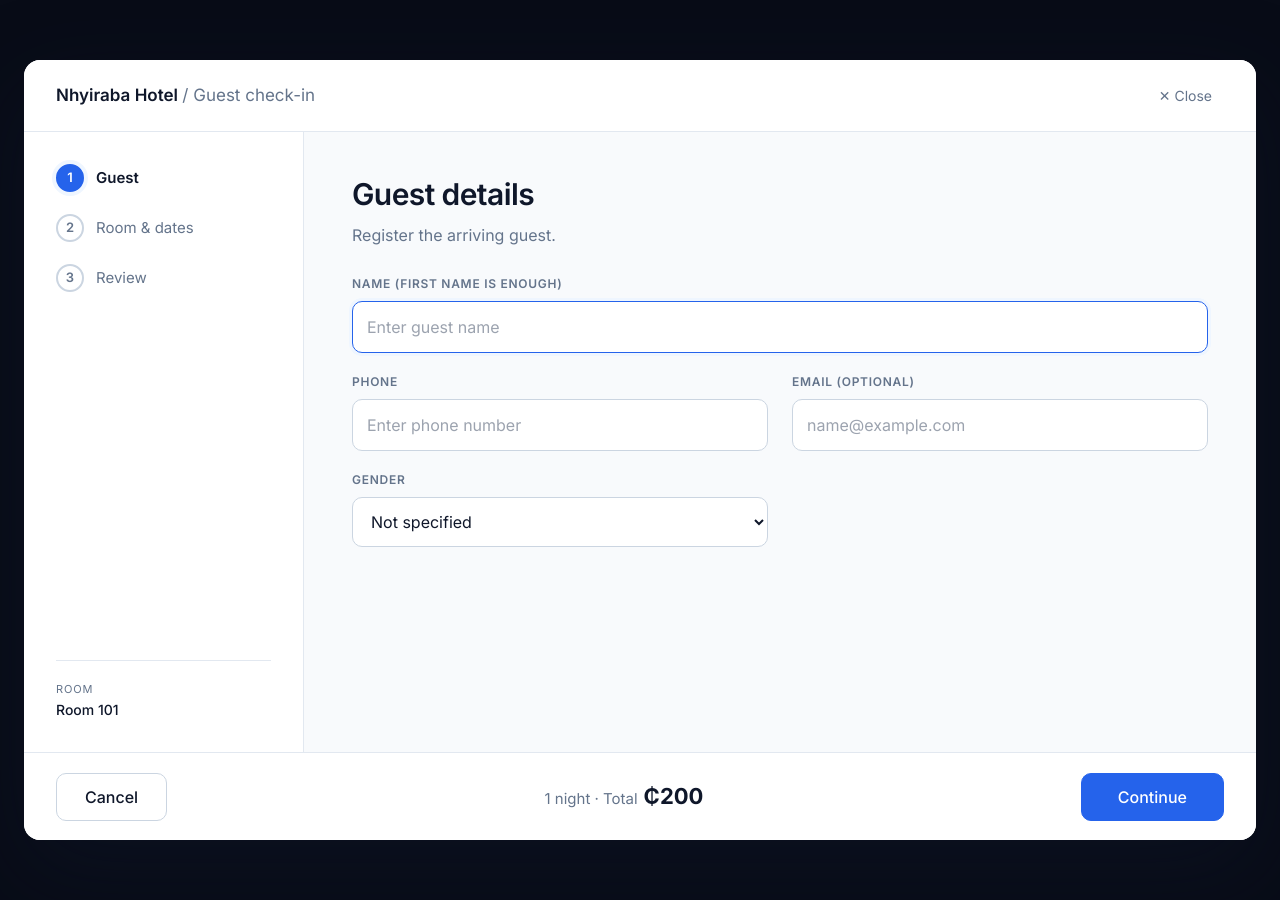
Test: CheckInModal (walk-in check-in validation, #7) › requires a contact detail before leaving the guest step
In the field with placeholder "Enter guest name": (780, 327) left=352, top=301, right=1208, bottom=353, type "Ama Boateng"
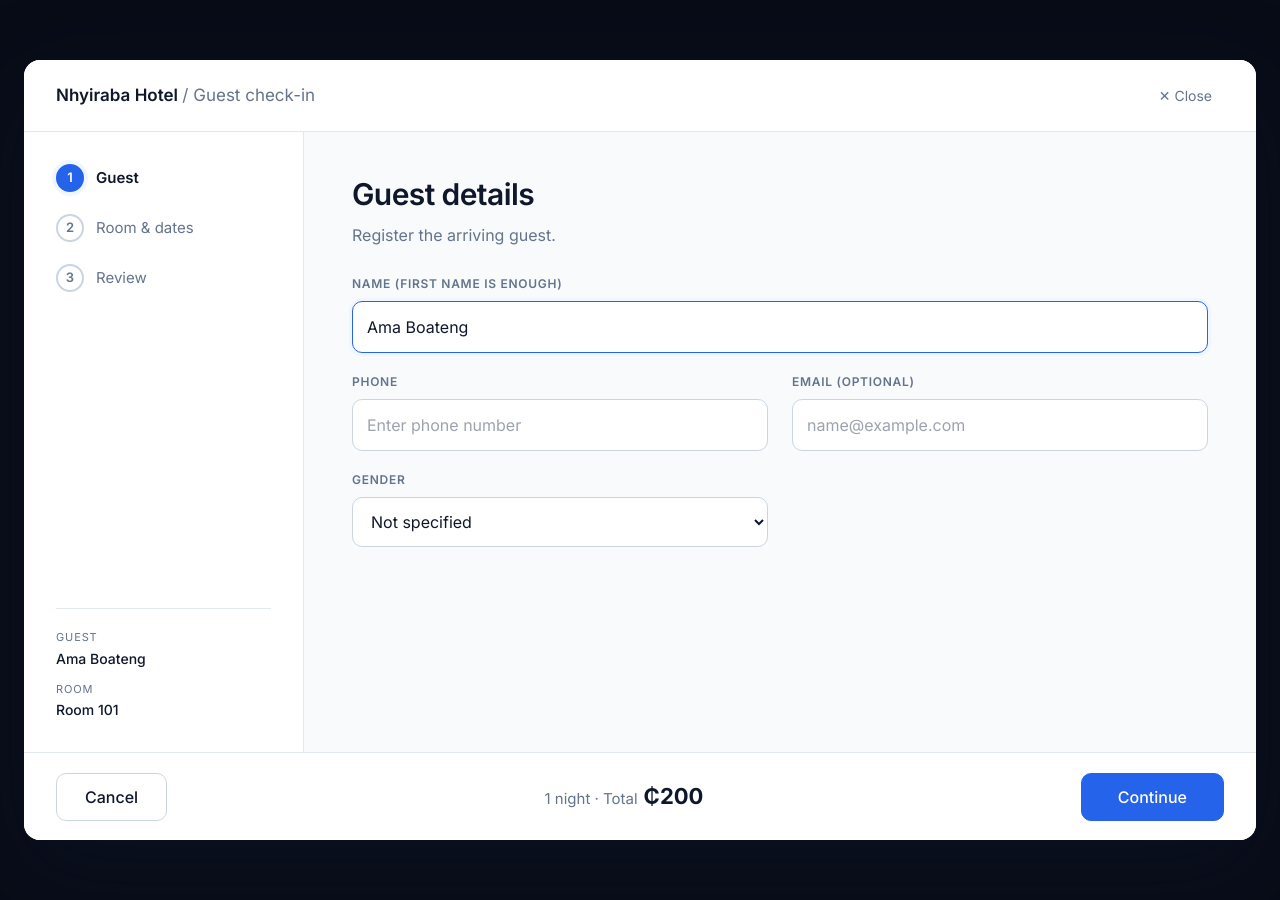
Click the button "Continue": click(1152, 796) left=1081, top=772, right=1224, bottom=820
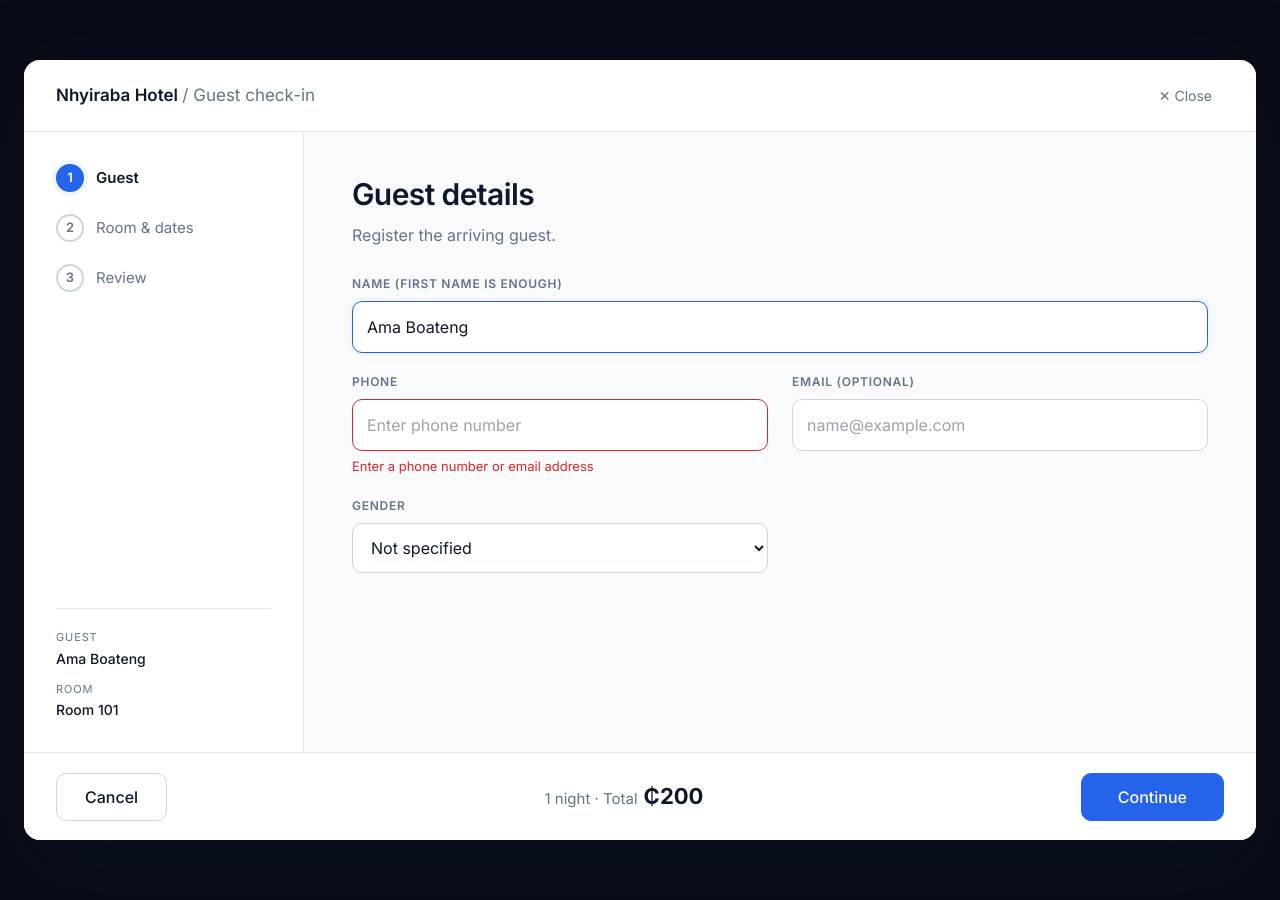
Expected: the heading "Guest details" is shown, left=352, top=176, right=534, bottom=212
Expected: the text "Enter a phone number or email address" is shown, left=352, top=458, right=594, bottom=474
